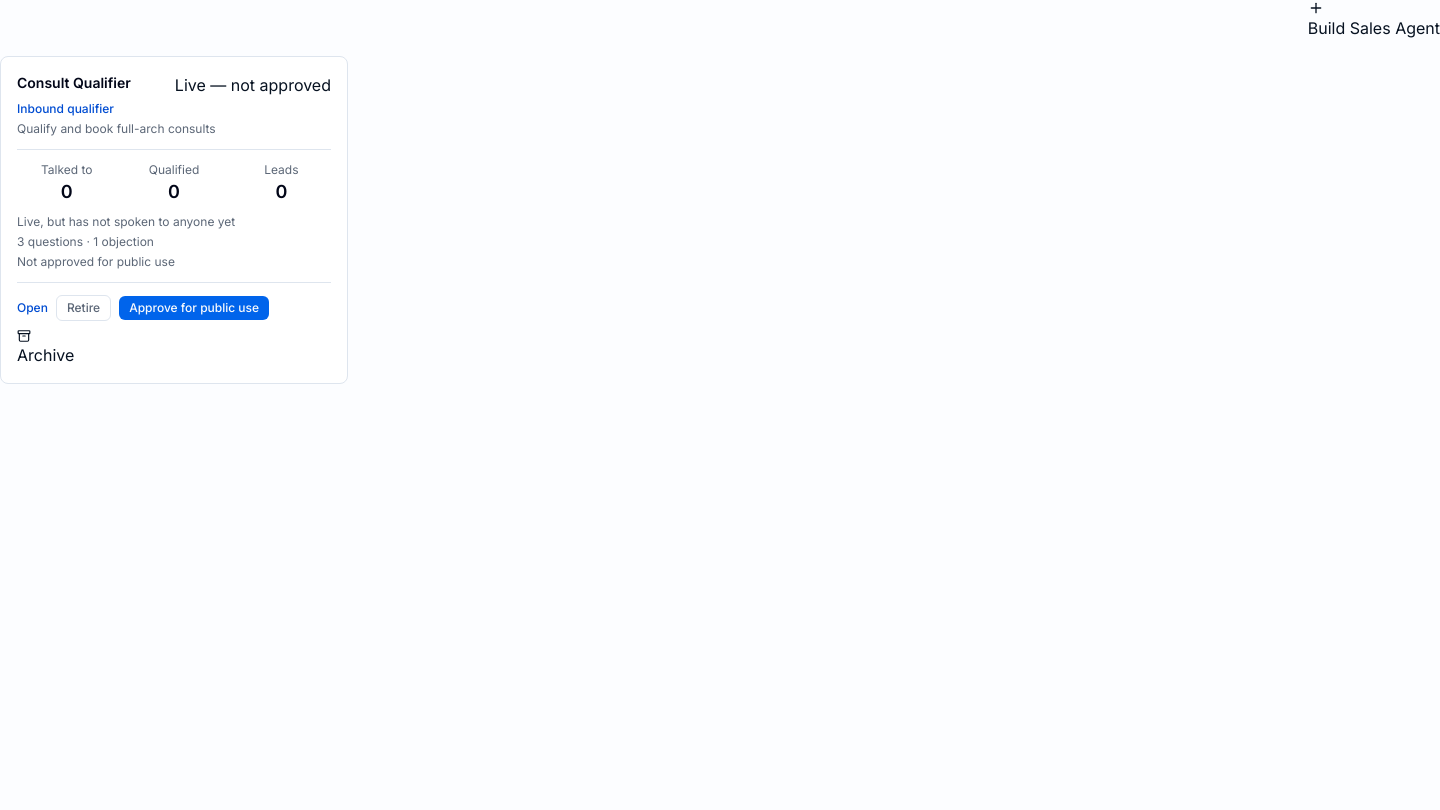
it: approving an agent for public use › does not write approval until the operator confirms, and the confirm shows the script
The image size is (1440, 810).
Click the button "Approve for public use" at (194, 308), box [119,296,269,320]
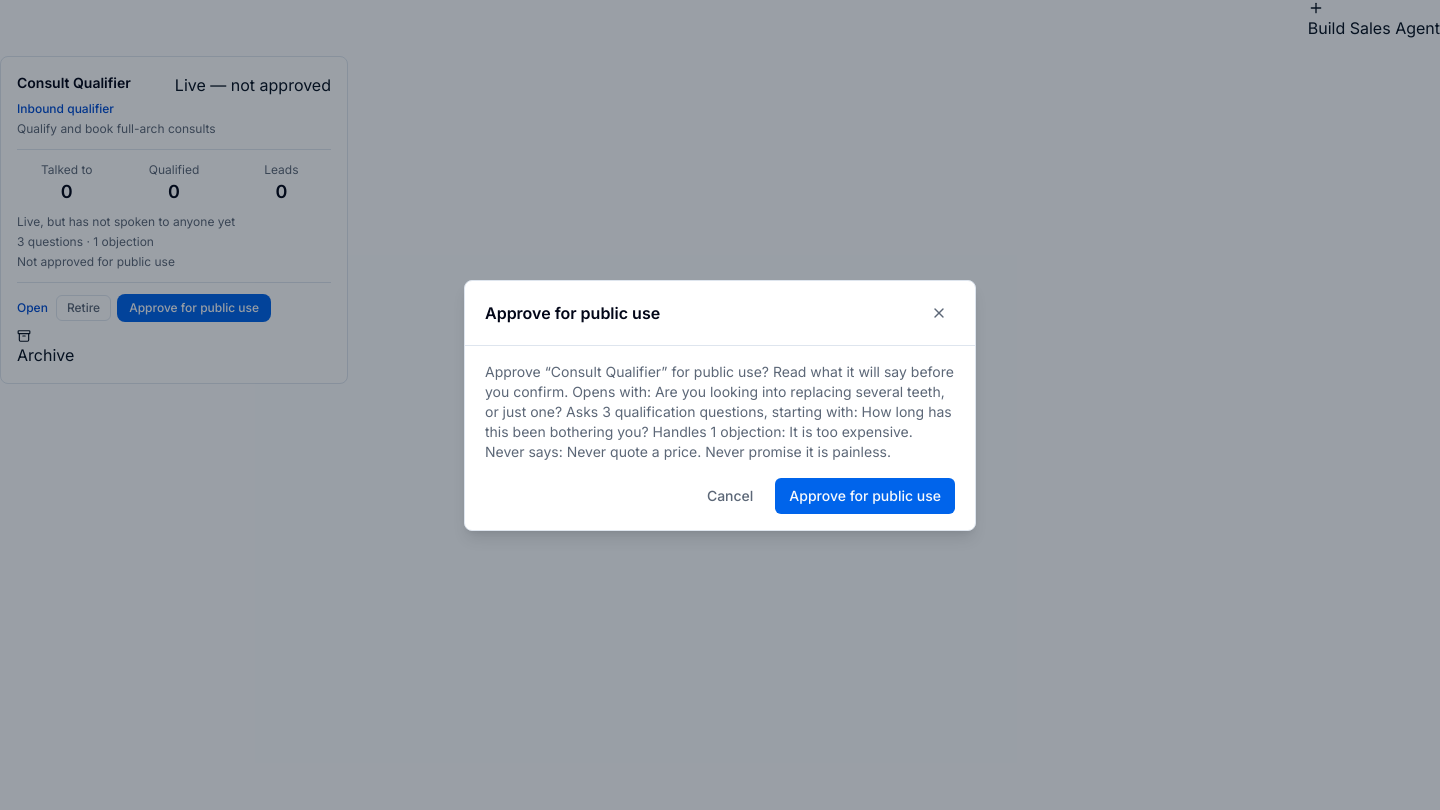
Result: the dialog "Approve for public use" shows "Consult Qualifier" at [485,362,954,460]
Result: the dialog "Approve for public use" shows "Are you looking into replacing several teeth, or just one?" at [485,362,954,460]
Result: the dialog "Approve for public use" shows "How long has this been bothering you?" at [485,362,954,460]
